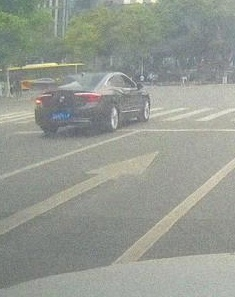L_light: (35, 94, 52, 104)
R_light: (74, 93, 101, 101)
T_light: (76, 76, 88, 79)
day-left: (35, 71, 109, 133)
